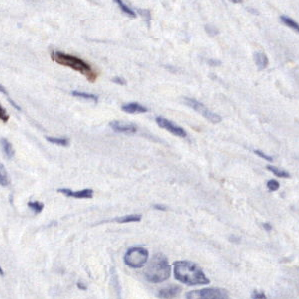Lymphocyte: (50, 47, 100, 82)
